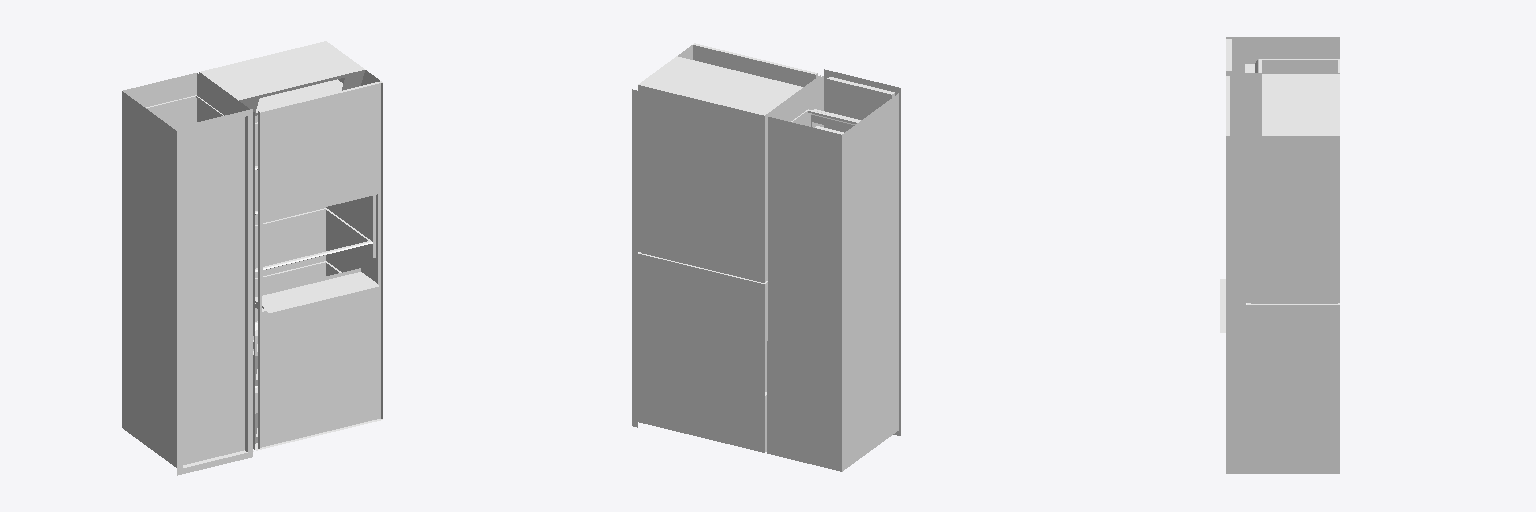
File: fridge_neg1_3.obj
3 renders of one model, left to right at view 1: azimuth 30°, elevation 25°; view 2: azimuth 150°, elevation 25°; view 3: azimuth 270°, elevation 25°, orthographic.
Size of the model in its own units: 47.38 by 74.54 by 23.23.